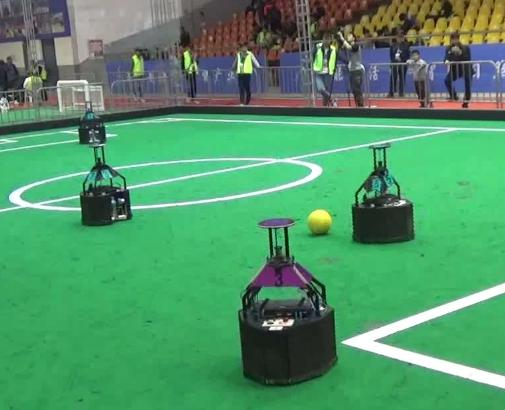robot: (237, 217, 342, 388), (348, 141, 422, 246), (76, 144, 136, 226)
